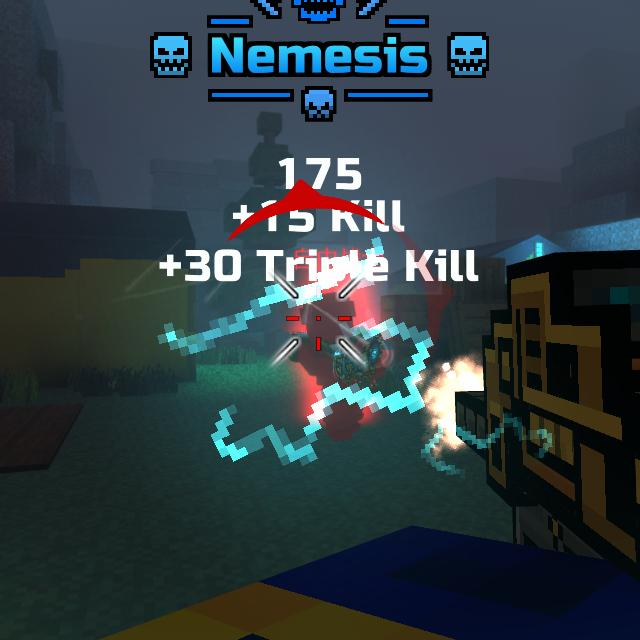Enemy: (291, 292, 385, 441)
